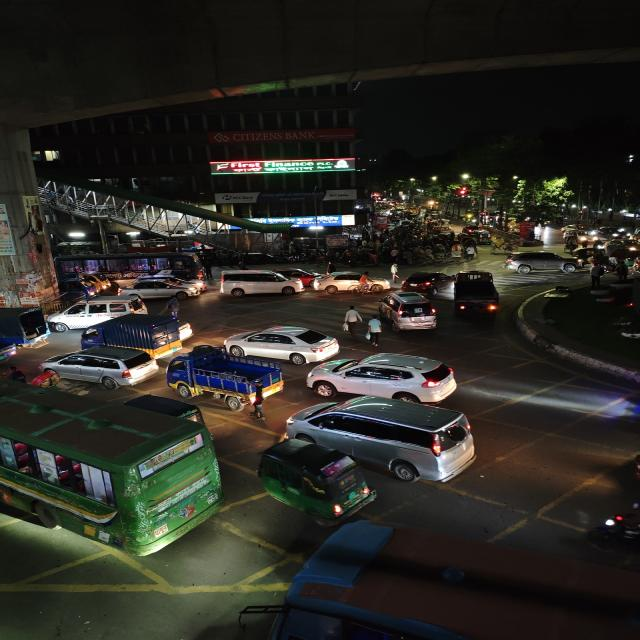bus: (0, 388, 225, 558)
car: (274, 396, 484, 485), (306, 352, 463, 404), (34, 345, 159, 389), (223, 324, 341, 364), (215, 266, 307, 300), (52, 296, 139, 331), (377, 289, 440, 332), (450, 278, 503, 320), (503, 249, 581, 277), (117, 276, 196, 300), (313, 269, 375, 295), (400, 270, 449, 295), (461, 225, 486, 238)
cng: (255, 440, 377, 521)
pedestrian: (364, 316, 385, 348), (342, 304, 362, 336), (588, 263, 606, 287), (617, 257, 632, 281), (387, 261, 403, 281)
pickup_van: (166, 344, 289, 418), (0, 306, 52, 350)
rickshaw: (487, 231, 516, 253), (455, 239, 479, 261), (447, 241, 471, 261)
truck: (78, 312, 194, 356)
